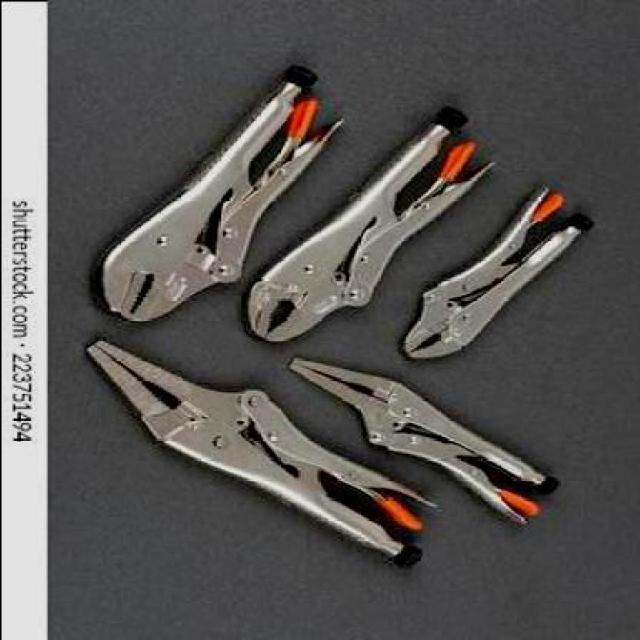pliers: (93, 52, 354, 322)
